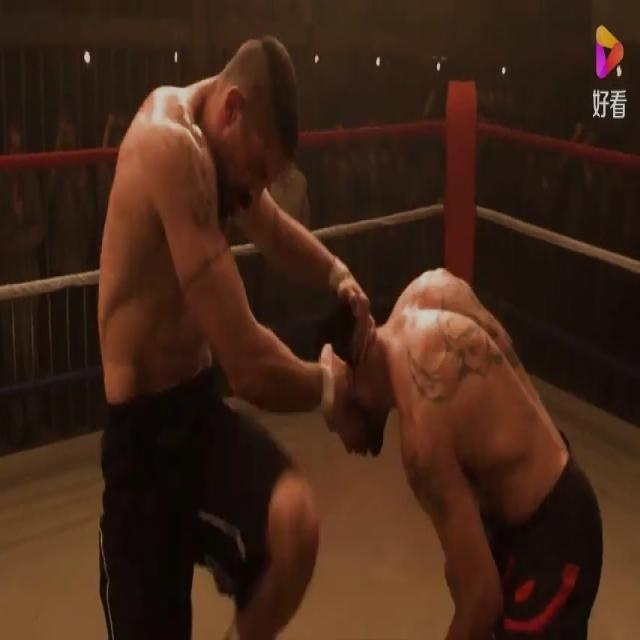fight: (94, 34, 607, 638)
